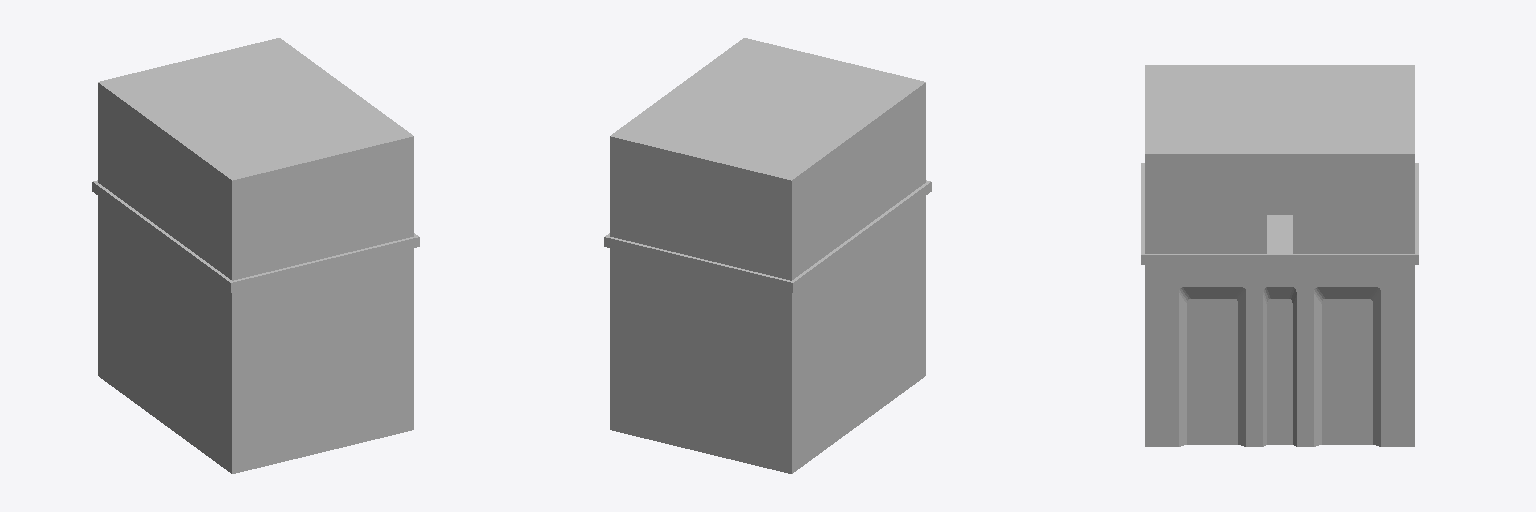
The model's file is level.obj.
The picture shows the model from 3 angles: view 1: azimuth 30°, elevation 25°; view 2: azimuth 150°, elevation 25°; view 3: azimuth 270°, elevation 25°; orthographic projection.
Visible parts, largest first — view 1: Room_Plane.001; view 2: Room_Plane.001; view 3: Room_Plane.001.
Boxes of the visible parts, <box> form: Room_Plane.001: <box>92,38,419,473</box>; Room_Plane.001: <box>604,38,931,473</box>; Room_Plane.001: <box>1141,65,1418,446</box>.
Bounding box in the file's own units: 24.74 × 36.8 × 31.45.